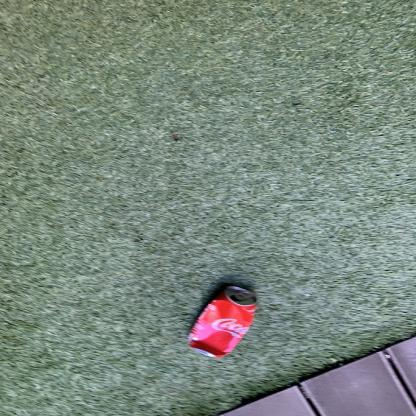trash: (180, 285, 259, 362)
